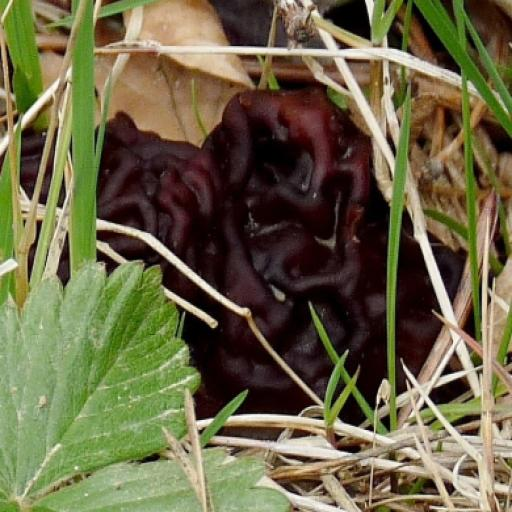False Morel: (60, 28, 432, 352)
